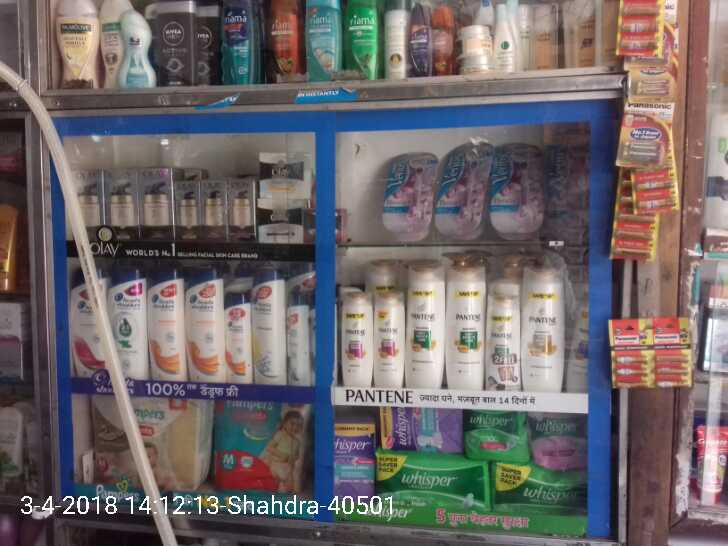venus: (435, 143, 491, 235), (543, 126, 590, 234), (491, 143, 543, 234), (383, 152, 435, 235)
